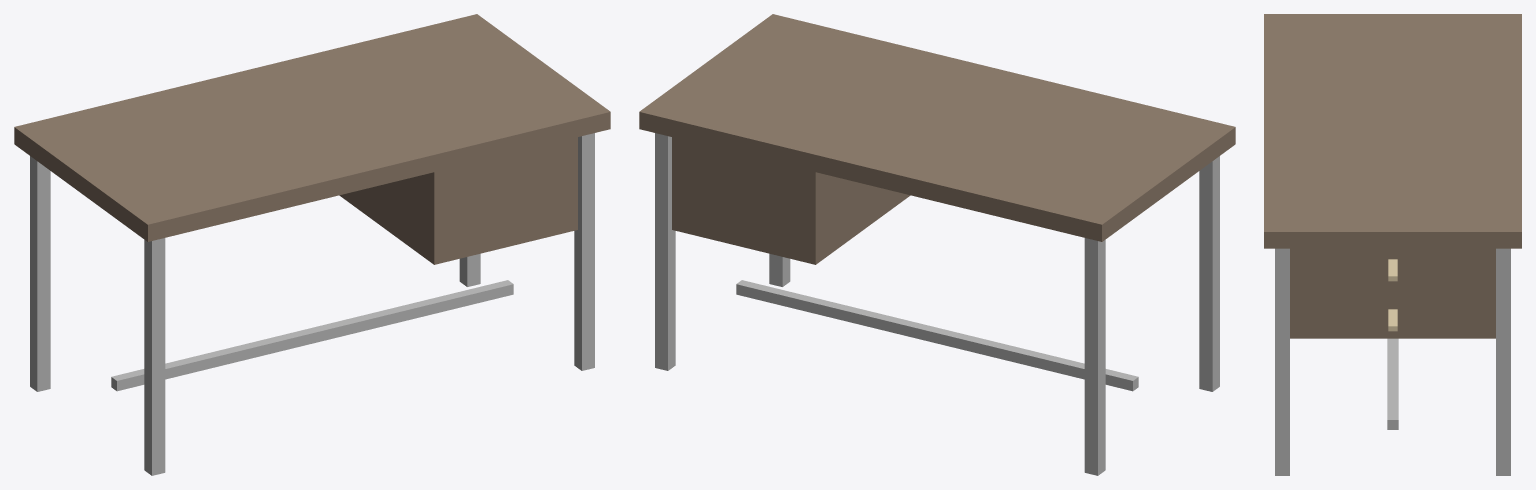
File: desk.glb
The picture shows the model from 3 angles, left to right: view 1: azimuth 30°, elevation 25°; view 2: azimuth 150°, elevation 25°; view 3: azimuth 270°, elevation 25°; orthographic projection. The views are drawn at different scales.
Parts seen in each view (by area): view 1: part_0, part_5, part_8, part_2, part_1, part_4, part_3; view 2: part_0, part_5, part_8, part_1, part_2, part_3, part_4; view 3: part_0, part_5, part_3, part_4, part_8.
Part boxes in pixels (<box>): part_0: <box>14,14,610,241</box>; part_5: <box>339,137,577,264</box>; part_8: <box>111,280,513,391</box>; part_2: <box>144,238,165,475</box>; part_1: <box>30,156,50,391</box>; part_4: <box>574,133,594,370</box>; part_3: <box>459,253,480,286</box>; part_0: <box>639,14,1235,241</box>; part_5: <box>672,137,910,264</box>; part_8: <box>736,280,1138,391</box>; part_1: <box>1084,238,1105,475</box>; part_2: <box>1199,156,1219,391</box>; part_3: <box>655,133,675,370</box>; part_4: <box>769,253,790,286</box>; part_0: <box>1264,14,1521,248</box>; part_5: <box>1290,248,1495,338</box>; part_3: <box>1496,248,1510,475</box>; part_4: <box>1275,248,1289,475</box>; part_8: <box>1387,338,1398,429</box>.
Size of the model in its own units: 1.45 by 0.745 by 0.7.
